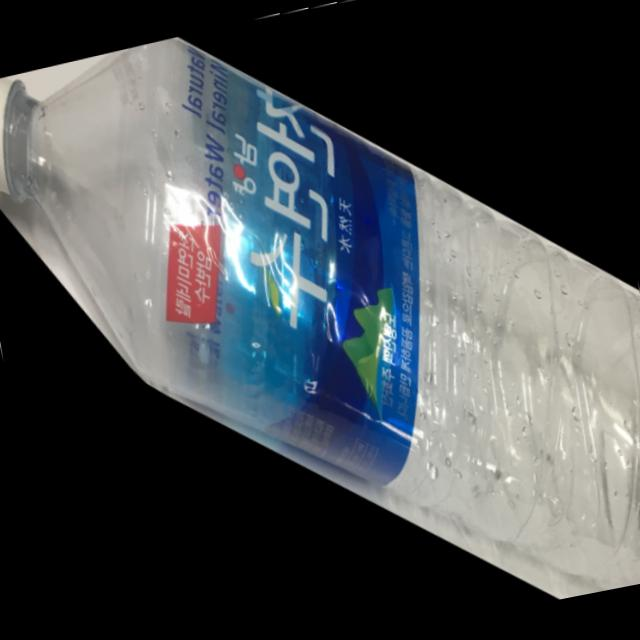plastic: (0, 34, 640, 602)
